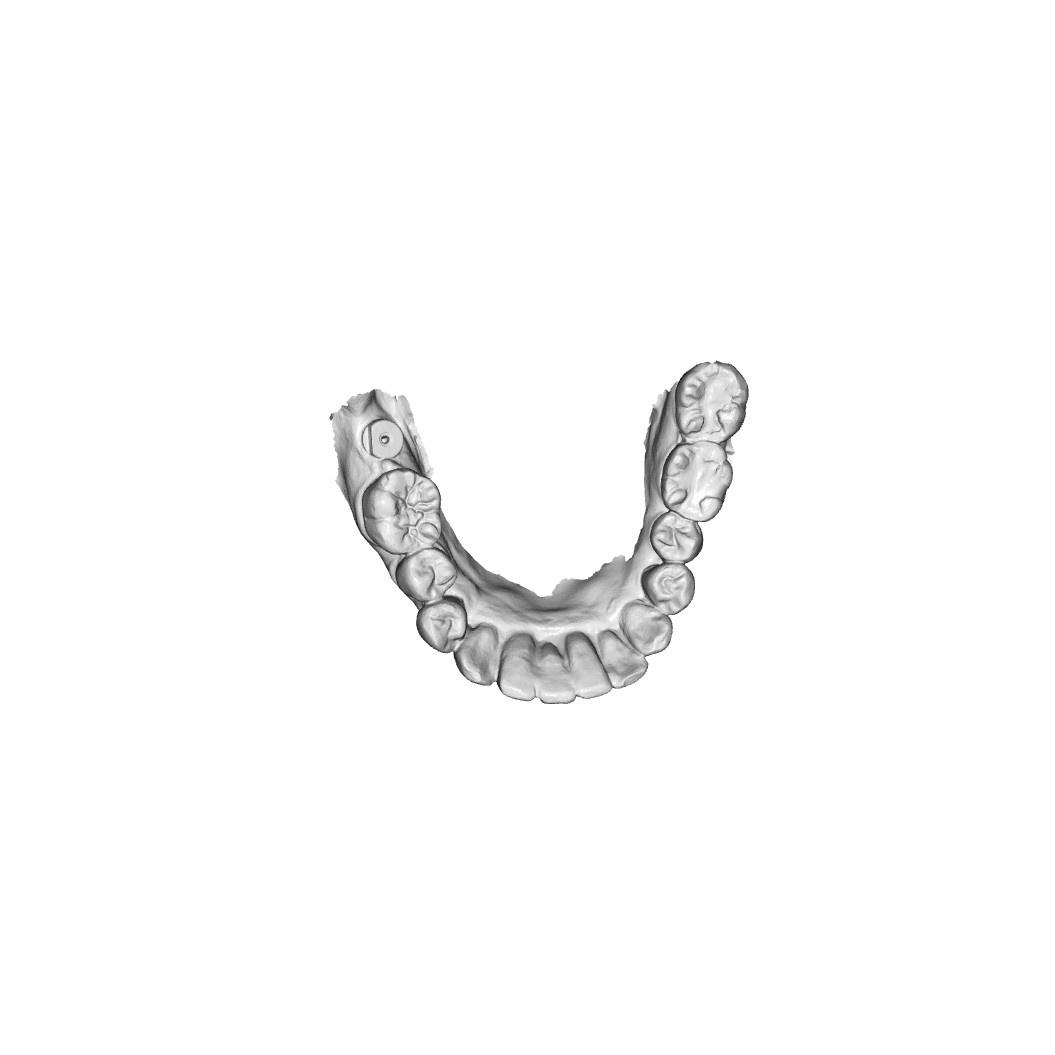canine: (622, 600, 677, 658), (455, 631, 498, 687)
implant: (359, 420, 404, 457)
incisor: (598, 629, 646, 692), (568, 632, 614, 693), (533, 642, 576, 704), (498, 636, 536, 705)
molar: (672, 358, 747, 445), (367, 469, 441, 556), (664, 442, 728, 521)
premolar: (398, 552, 456, 601), (420, 601, 467, 656), (655, 512, 702, 564), (649, 567, 694, 618)
